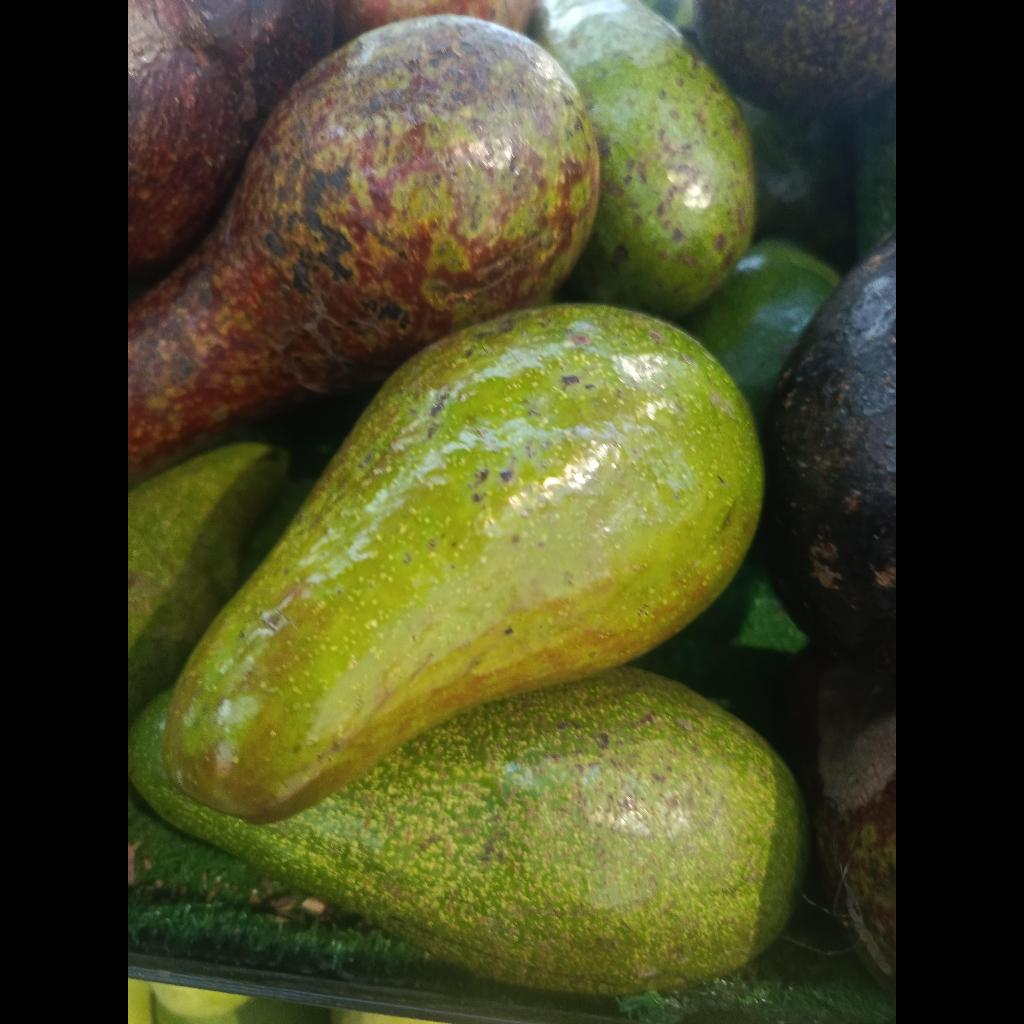anthracnose: (128, 17, 599, 482)
healthy: (165, 305, 763, 822), (130, 667, 805, 995)
